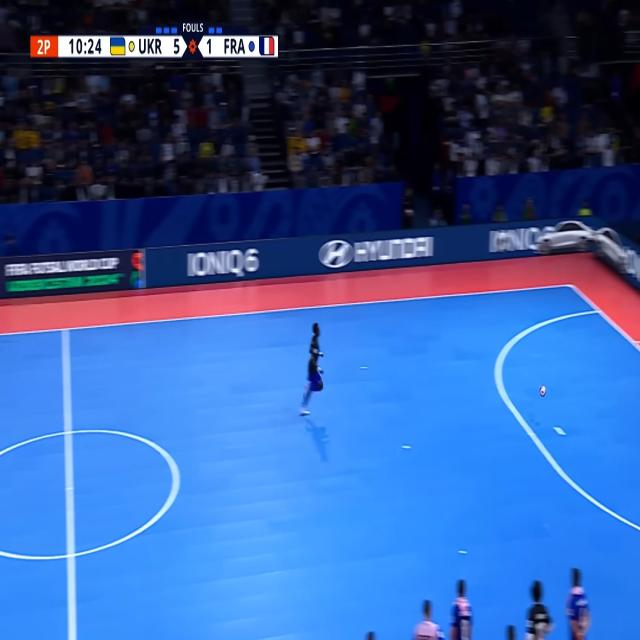Ball: (538, 381, 550, 401)
Field: (0, 287, 640, 640)
Goal-keeper: (302, 320, 325, 428)
